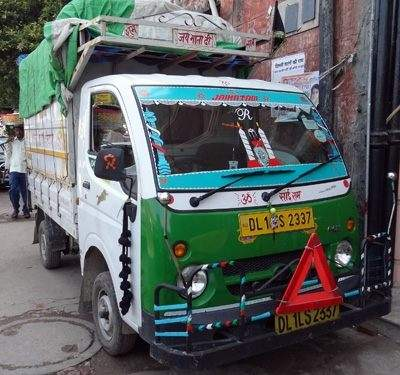numberplate: (239, 206, 316, 238), (276, 304, 340, 333)
